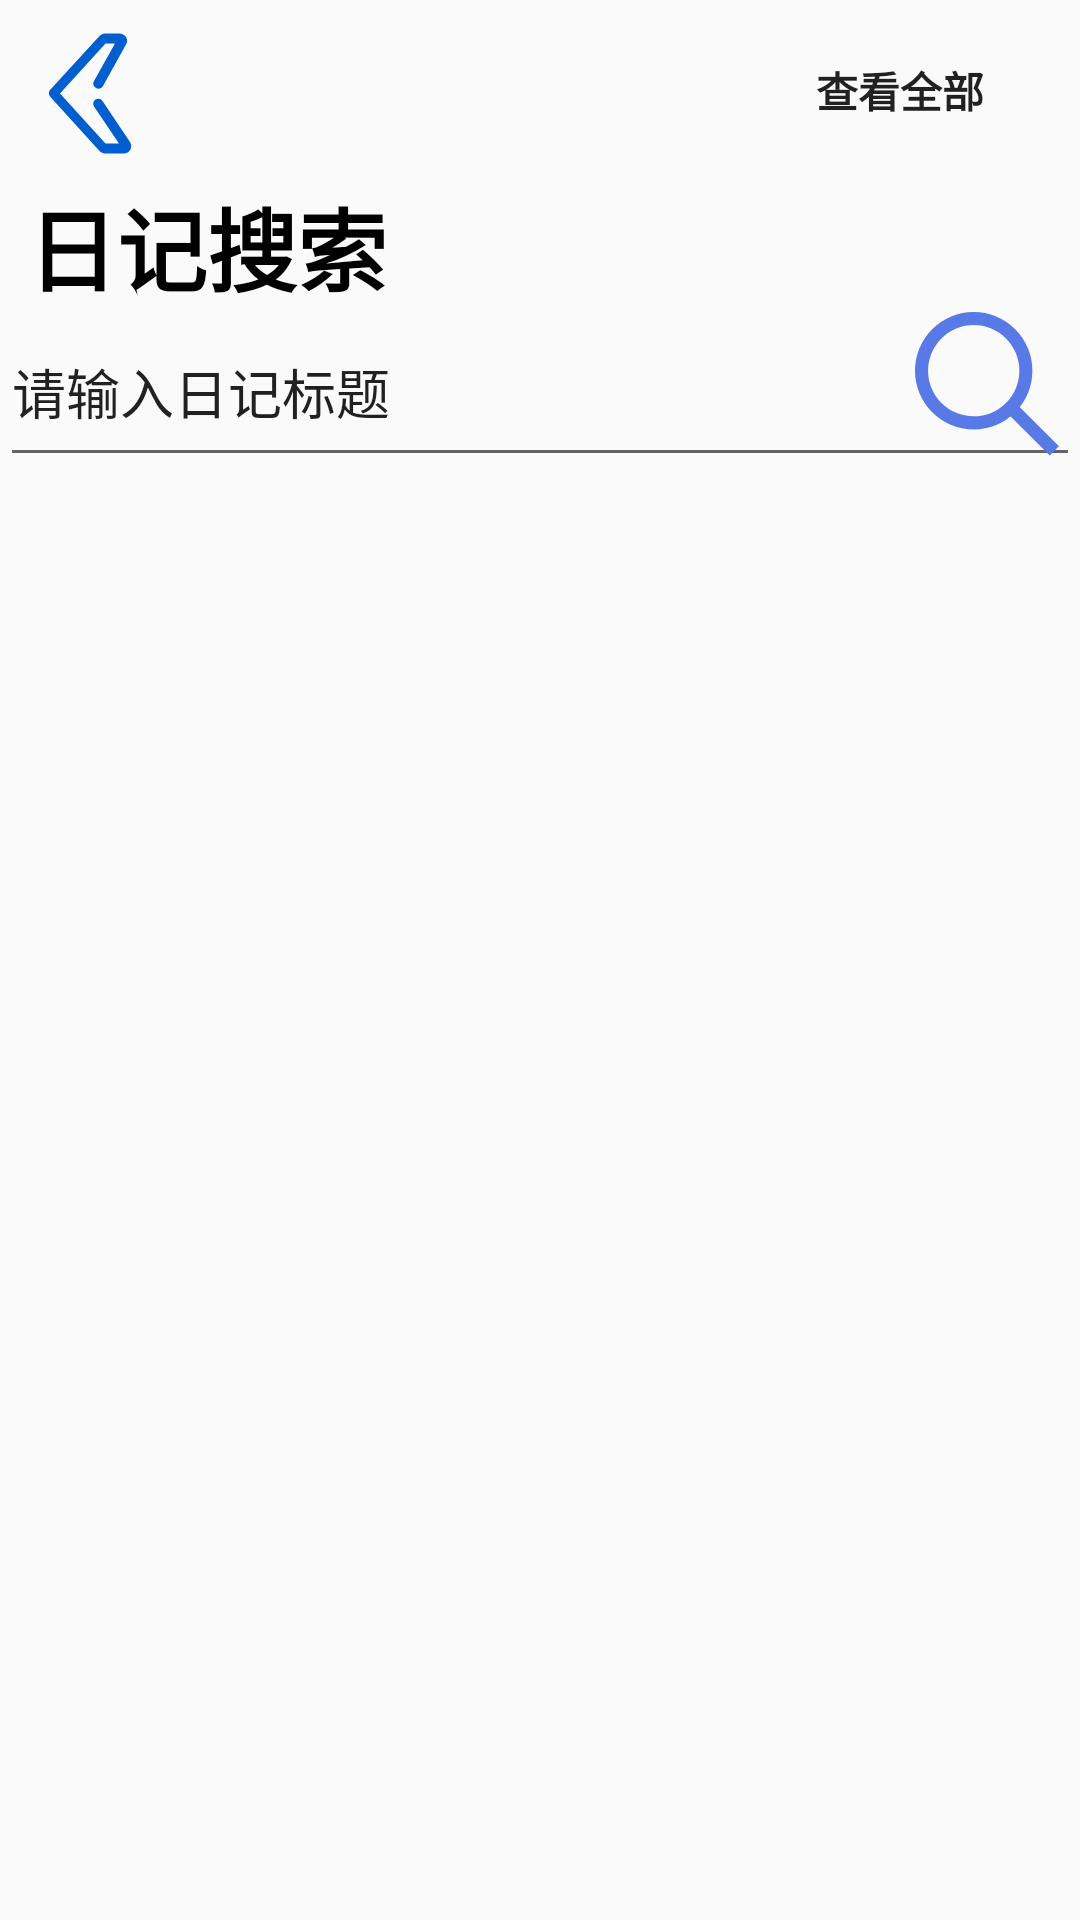

Where icons sit on this 1080px×1920px app screen, as (x1, y1, x2, y2):
back: (49, 33, 132, 154)
search: (915, 312, 1065, 456)
